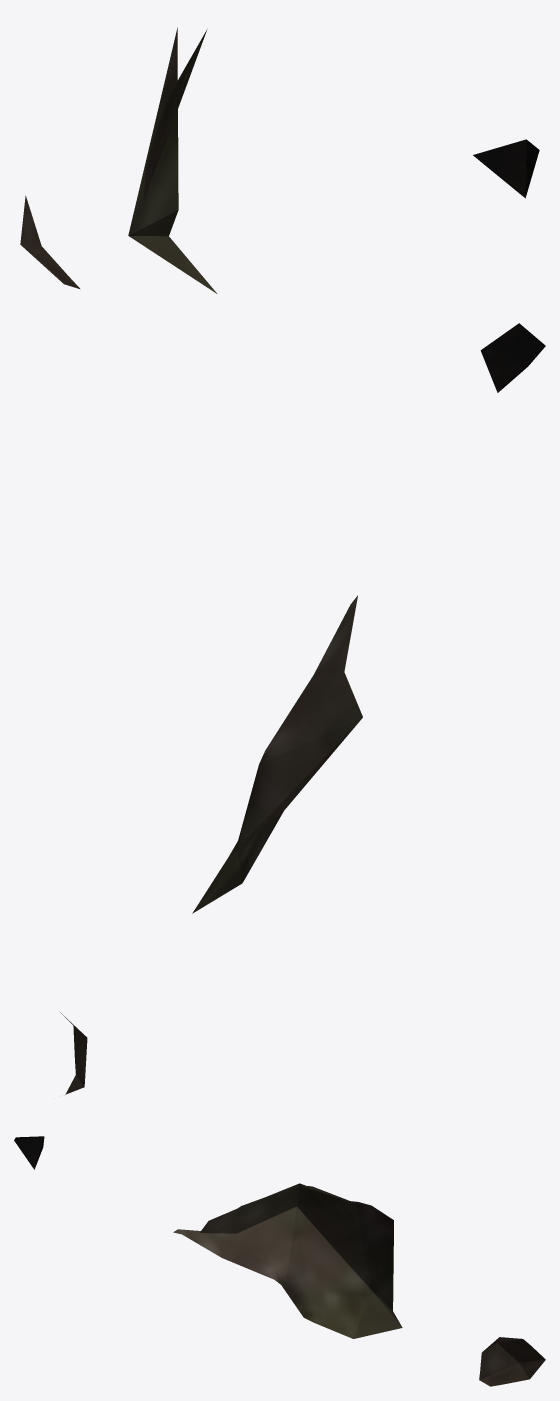
The picture shows the model from 3 angles, top to bottom: view 1: azimuth 30°, elevation 25°; view 2: azimuth 150°, elevation 25°; view 3: azimuth 270°, elevation 25°; orthographic projection. The views are drawn at different scales.
Size of the model in its own units: 0.1221 by 0.4454 by 0.8749.
1 material, 1 textured.
